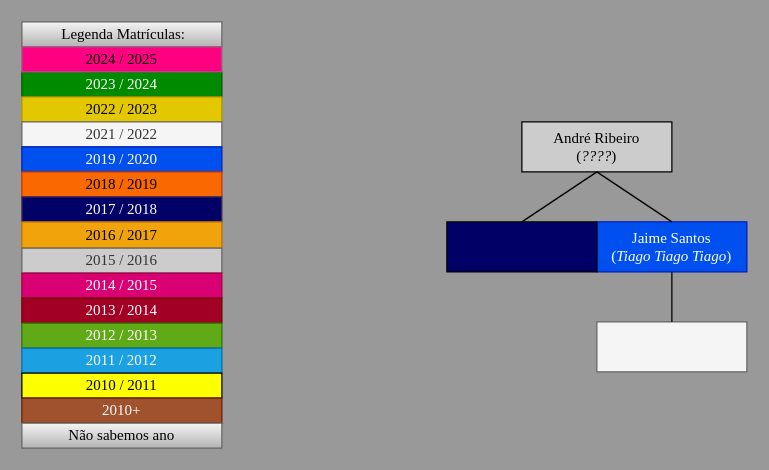
Some shapes in this 769 by 470 pixel diagram are drawn without their labels. Here are the shapes that lost their labels. From the top down, the centre of each, then its label:
(521,246): Rodrigo Silva ( ???? )
(671,346): Daniel Monteiro ( Lambidelas )
